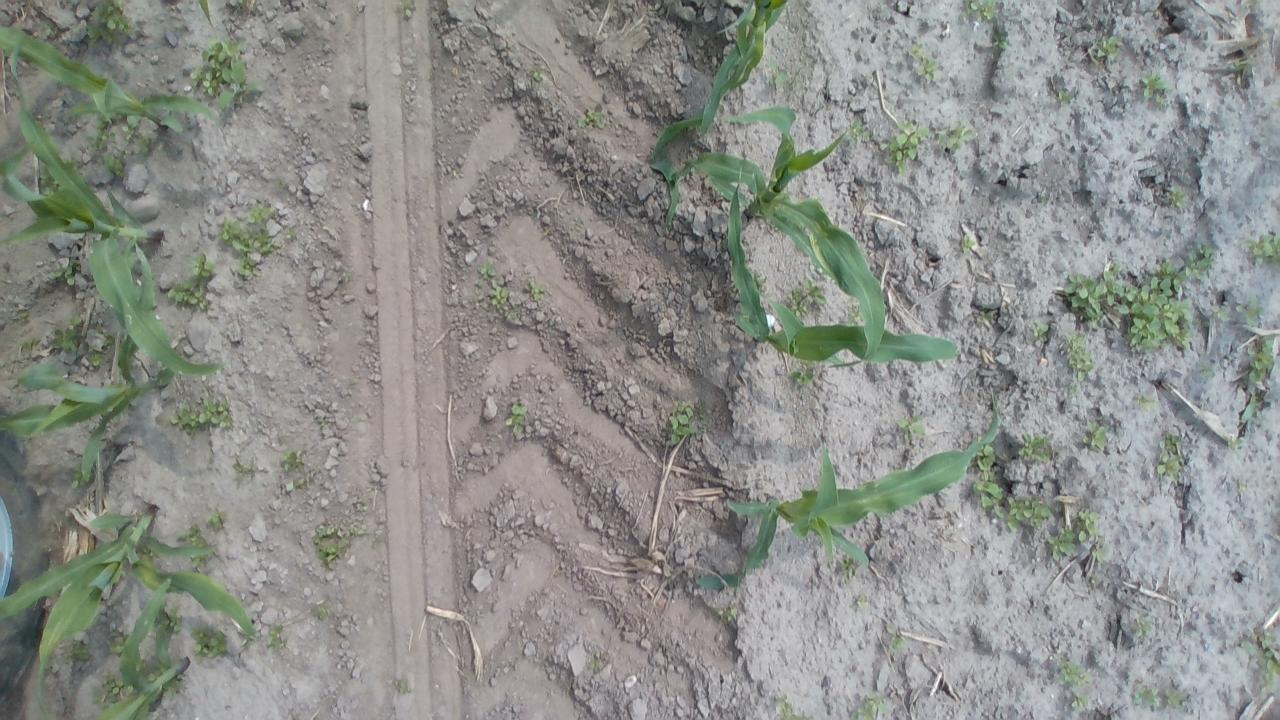Maize: (0, 42, 228, 382), (693, 389, 1002, 594), (646, 106, 886, 362), (0, 502, 265, 720), (698, 164, 958, 369), (0, 240, 176, 486), (650, 0, 794, 232), (1, 24, 234, 136), (90, 577, 192, 720), (194, 0, 217, 36)
Weeds: (1056, 260, 1196, 356), (1230, 329, 1280, 451), (190, 36, 262, 109), (216, 204, 280, 282), (312, 495, 368, 568), (168, 253, 215, 312), (878, 120, 928, 174), (171, 395, 236, 433), (1244, 627, 1280, 691), (82, 1, 136, 42), (972, 448, 1004, 516), (1002, 492, 1052, 530), (51, 316, 88, 360), (974, 439, 999, 503), (1154, 430, 1184, 483), (790, 278, 826, 320), (190, 624, 229, 662), (481, 280, 516, 322), (1132, 682, 1186, 708), (668, 400, 699, 445), (1063, 356, 1096, 397), (1014, 432, 1056, 463), (122, 118, 156, 156), (1245, 230, 1280, 266), (906, 42, 938, 81), (1141, 69, 1172, 108), (1054, 656, 1092, 686), (84, 329, 112, 369), (936, 122, 976, 150), (281, 448, 308, 488), (82, 120, 112, 156), (1072, 506, 1100, 543), (762, 58, 794, 90), (100, 672, 132, 703), (1046, 527, 1076, 560), (854, 691, 888, 720), (1080, 421, 1109, 454), (974, 440, 999, 478), (506, 400, 530, 435), (961, 0, 1000, 21), (711, 600, 740, 628), (896, 417, 928, 442), (1190, 244, 1218, 272), (103, 150, 127, 180), (51, 260, 78, 286), (1094, 34, 1120, 61), (1165, 184, 1191, 210), (1228, 58, 1254, 84), (157, 606, 183, 632), (576, 108, 606, 130), (776, 697, 804, 720), (142, 660, 171, 682), (108, 628, 130, 657), (839, 553, 860, 583), (39, 170, 64, 195), (1238, 298, 1262, 324), (265, 623, 287, 651), (230, 459, 258, 480), (847, 118, 869, 144), (845, 300, 865, 327), (179, 525, 207, 544), (994, 26, 1014, 52), (1134, 392, 1160, 412), (1208, 304, 1230, 327), (1133, 614, 1152, 640), (70, 640, 92, 662), (886, 629, 907, 652), (1054, 87, 1076, 108), (791, 367, 813, 388), (206, 510, 228, 531), (71, 466, 91, 489), (18, 336, 40, 356), (164, 678, 183, 700), (393, 677, 412, 697), (190, 553, 216, 567), (524, 282, 544, 300), (42, 20, 60, 40), (1032, 321, 1050, 341), (750, 270, 766, 292), (960, 232, 976, 254), (239, 628, 258, 646), (479, 261, 498, 278), (396, 0, 415, 16), (589, 653, 605, 671), (316, 602, 332, 620), (854, 593, 870, 611), (1092, 546, 1108, 564), (974, 310, 994, 324), (1071, 696, 1090, 710), (1200, 363, 1215, 380), (530, 66, 544, 84), (1086, 572, 1104, 586), (338, 268, 353, 283), (285, 226, 300, 241), (16, 310, 32, 324), (64, 157, 78, 172), (1236, 477, 1246, 496), (228, 0, 248, 8), (545, 318, 557, 328)
